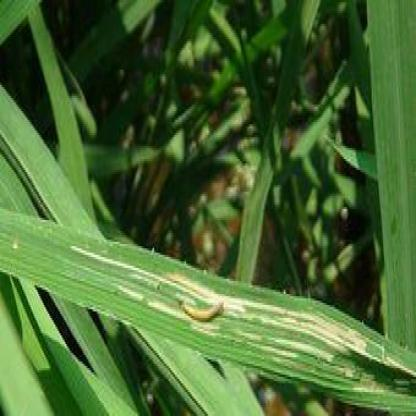leaf-folder: (175, 287, 227, 333)
